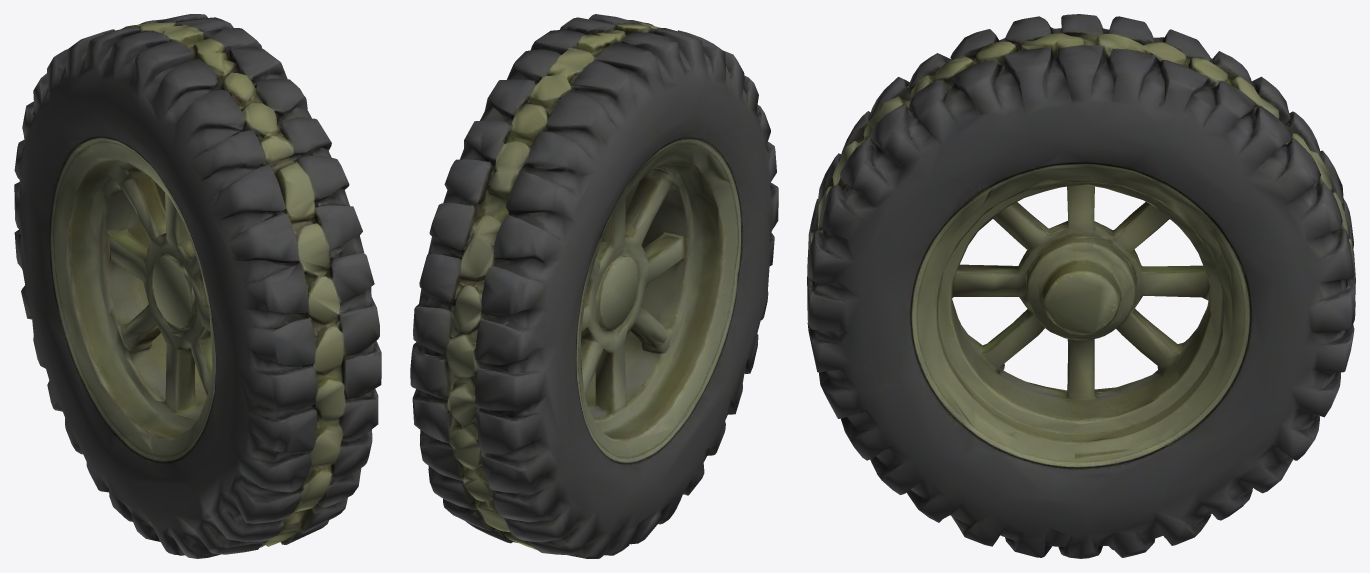
File: jeep_wheel.glb
The picture shows the model from 3 angles, left to right: view 1: azimuth 30°, elevation 25°; view 2: azimuth 150°, elevation 25°; view 3: azimuth 270°, elevation 25°; orthographic projection. The views are drawn at different scales.
Bounding box in the file's own units: 0.5881 × 2 × 2.
1 material, 1 textured.
